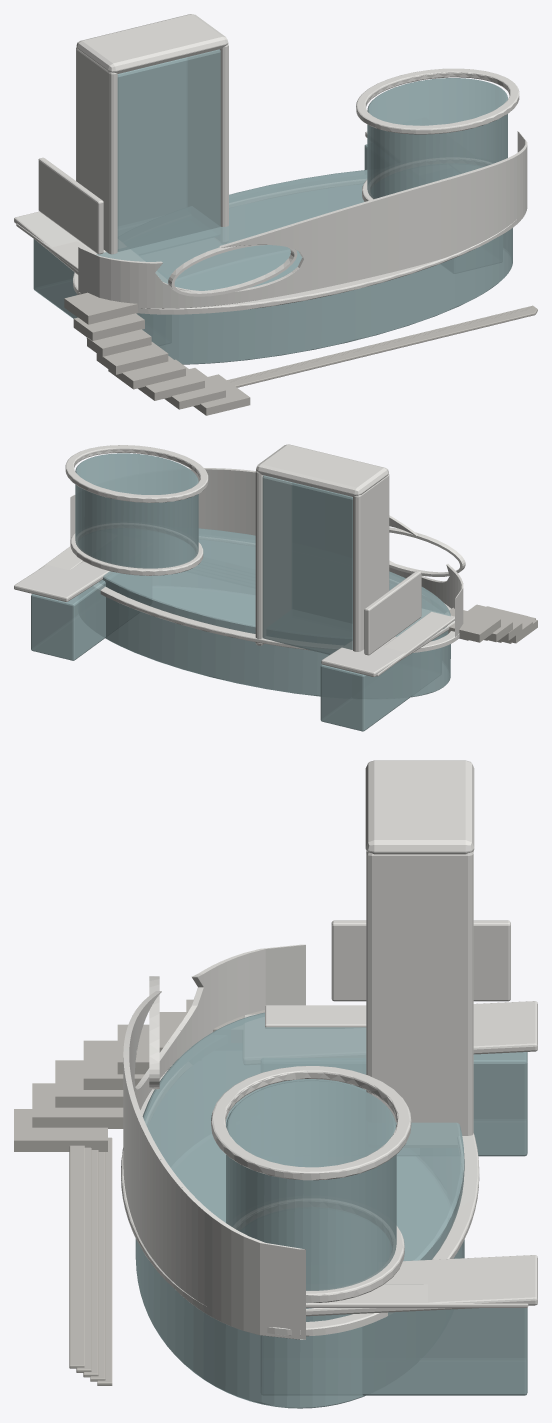
File: shanghai-cinema-massing.glb
The picture shows the model from 3 angles, top to bottom: view 1: azimuth 30°, elevation 25°; view 2: azimuth 150°, elevation 25°; view 3: azimuth 270°, elevation 25°; orthographic projection. The views are drawn at different scales.
Visible parts, largest first — view 1: ShanghaiCinema_Massing_Runtime; view 2: ShanghaiCinema_Massing_Runtime; view 3: ShanghaiCinema_Massing_Runtime.
Boxes of the visible parts, x1,y1,x2,y2 form: ShanghaiCinema_Massing_Runtime: [14, 14, 537, 415]; ShanghaiCinema_Massing_Runtime: [14, 444, 537, 731]; ShanghaiCinema_Massing_Runtime: [14, 760, 537, 1408].
Bounding box in the file's own units: 32.23 × 17.23 × 21.19.
